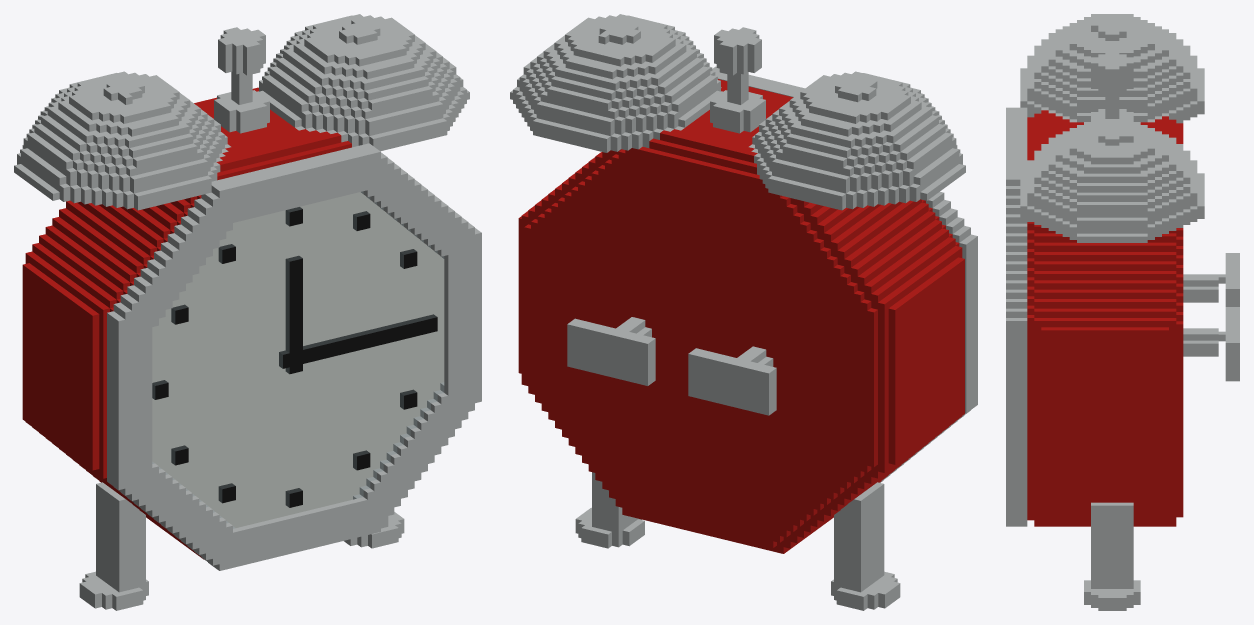
File: alarmclock.glb
The picture shows the model from 3 angles, left to right: view 1: azimuth 30°, elevation 25°; view 2: azimuth 150°, elevation 25°; view 3: azimuth 270°, elevation 25°; orthographic projection. The views are drawn at different scales.
Visible parts, largest first — view 1: alarmclock:compound; view 2: alarmclock:compound; view 3: alarmclock:compound.
Boxes of the visible parts, left/top/right/bottom form: alarmclock:compound: left=14, top=14, right=481, bottom=610; alarmclock:compound: left=510, top=14, right=977, bottom=610; alarmclock:compound: left=1006, top=14, right=1239, bottom=610.
Bounding box in the file's own units: 0.124 × 0.15 × 0.066.
